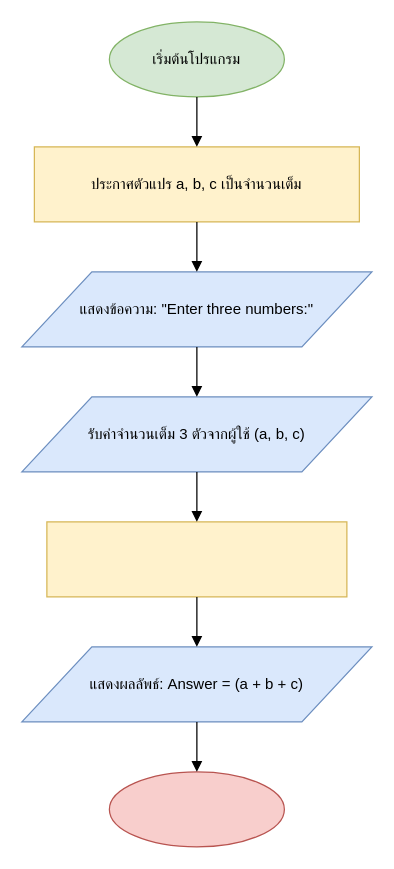
Some shapes in this 394 by 869 pixel diagram are drawn without their labels. Each missing label, with the centre of its shape:
"คำนวณผลรวม = a + b + c" goes at (x=196, y=559).
"สิ้นสุดโปรแกรม" goes at (x=196, y=809).
